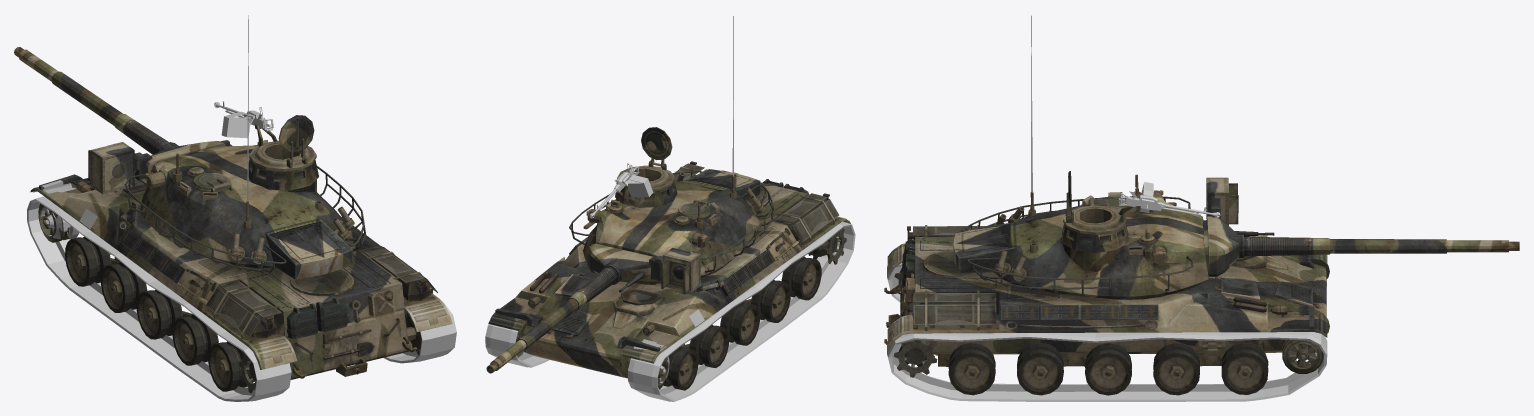
The model's file is ARE AMX-30 MBT 'Jaguar Tank'.obj.
3 views of the same model, side by side, from view 1: azimuth 30°, elevation 25°; view 2: azimuth 150°, elevation 25°; view 3: azimuth 270°, elevation 25° (orthographic). The views are drawn at different scales.
Visible parts, largest first — view 1: DrawCall_1331, DrawCall_1334, DrawCall_0259, DrawCall_1332, DrawCall_1348, DrawCall_1347, DrawCall_1350, DrawCall_1349, DrawCall_1333, DrawCall_1346, DrawCall_0258, DrawCall_1340 (+4 smaller); view 2: DrawCall_1331, DrawCall_1334, DrawCall_0259, DrawCall_1332, DrawCall_1346, DrawCall_1348, DrawCall_1349, DrawCall_1347, DrawCall_0258, DrawCall_1350, DrawCall_0296, DrawCall_1340 (+3 smaller); view 3: DrawCall_1331, DrawCall_1334, DrawCall_0258, DrawCall_1332, DrawCall_1341, DrawCall_1345, DrawCall_1342, DrawCall_1343, DrawCall_1344, DrawCall_1333, DrawCall_1338, DrawCall_1336 (+1 smaller).
Part boxes in pixels (<box>): DrawCall_1331: <box>30,140,452,379</box>; DrawCall_1334: <box>124,140,366,279</box>; DrawCall_0259: <box>27,196,291,401</box>; DrawCall_1332: <box>14,47,225,194</box>; DrawCall_1348: <box>136,289,182,339</box>; DrawCall_1347: <box>172,314,218,365</box>; DrawCall_1350: <box>65,236,111,286</box>; DrawCall_1349: <box>101,262,147,312</box>; DrawCall_1333: <box>249,124,316,171</box>; DrawCall_1346: <box>208,341,251,391</box>; DrawCall_0258: <box>383,301,456,363</box>; DrawCall_1340: <box>278,115,314,163</box>; DrawCall_1331: <box>488,161,850,378</box>; DrawCall_1334: <box>569,169,774,283</box>; DrawCall_0259: <box>628,221,855,401</box>; DrawCall_1332: <box>486,243,700,373</box>; DrawCall_1346: <box>781,256,821,300</box>; DrawCall_1348: <box>720,302,759,345</box>; DrawCall_1349: <box>689,324,728,367</box>; DrawCall_1347: <box>751,280,790,322</box>; DrawCall_0258: <box>485,324,549,367</box>; DrawCall_1350: <box>663,346,698,390</box>; DrawCall_0296: <box>589,163,653,218</box>; DrawCall_1340: <box>641,127,672,167</box>; DrawCall_1331: <box>884,225,1329,366</box>; DrawCall_1334: <box>953,174,1208,299</box>; DrawCall_0258: <box>887,332,1327,401</box>; DrawCall_1332: <box>1203,177,1519,276</box>; DrawCall_1341: <box>948,342,995,395</box>; DrawCall_1345: <box>1221,342,1268,394</box>; DrawCall_1342: <box>1017,343,1063,395</box>; DrawCall_1343: <box>1085,343,1131,395</box>; DrawCall_1344: <box>1153,343,1199,395</box>; DrawCall_1333: <box>1063,205,1140,234</box>; DrawCall_1338: <box>1282,339,1323,373</box>; DrawCall_1336: <box>893,340,937,377</box>.
Bounding box in the file's own units: 3.34 × 5.47 × 9.64.
